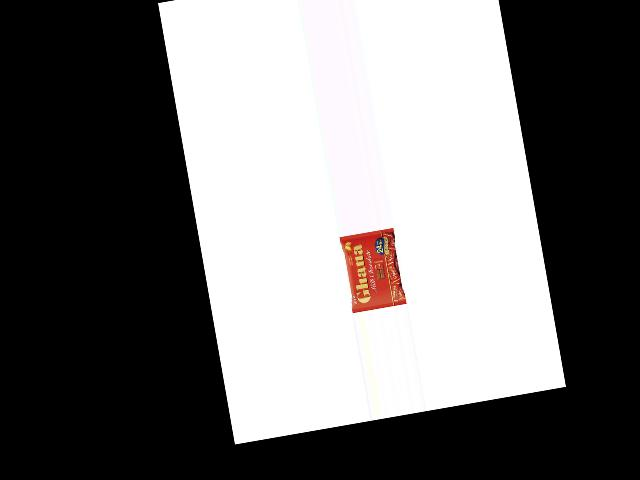chocolate: (340, 226, 408, 311)
